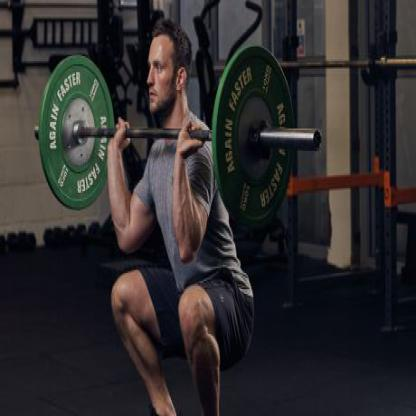Barbell: (209, 38, 303, 232)
